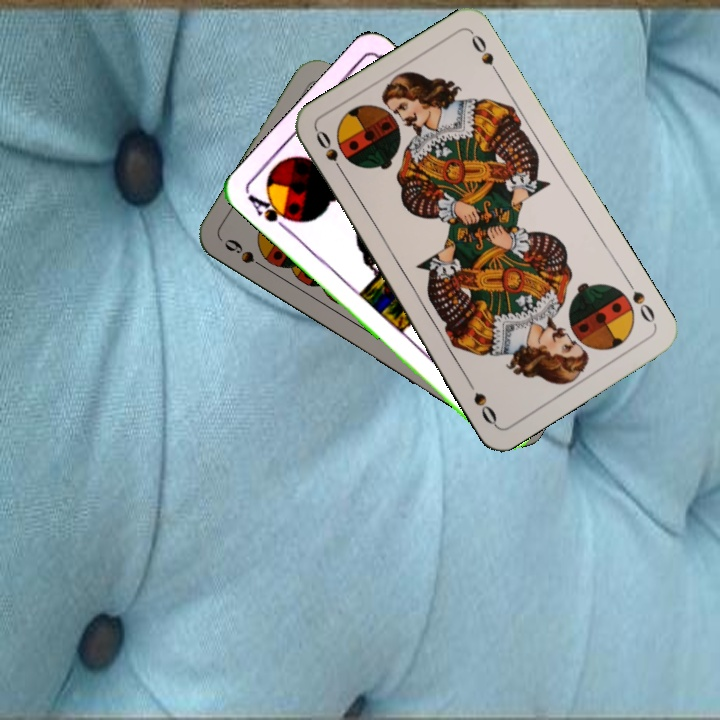S9: (220, 234, 272, 274)
SA: (244, 189, 300, 235)
SO: (311, 126, 349, 180), (622, 275, 658, 326)
